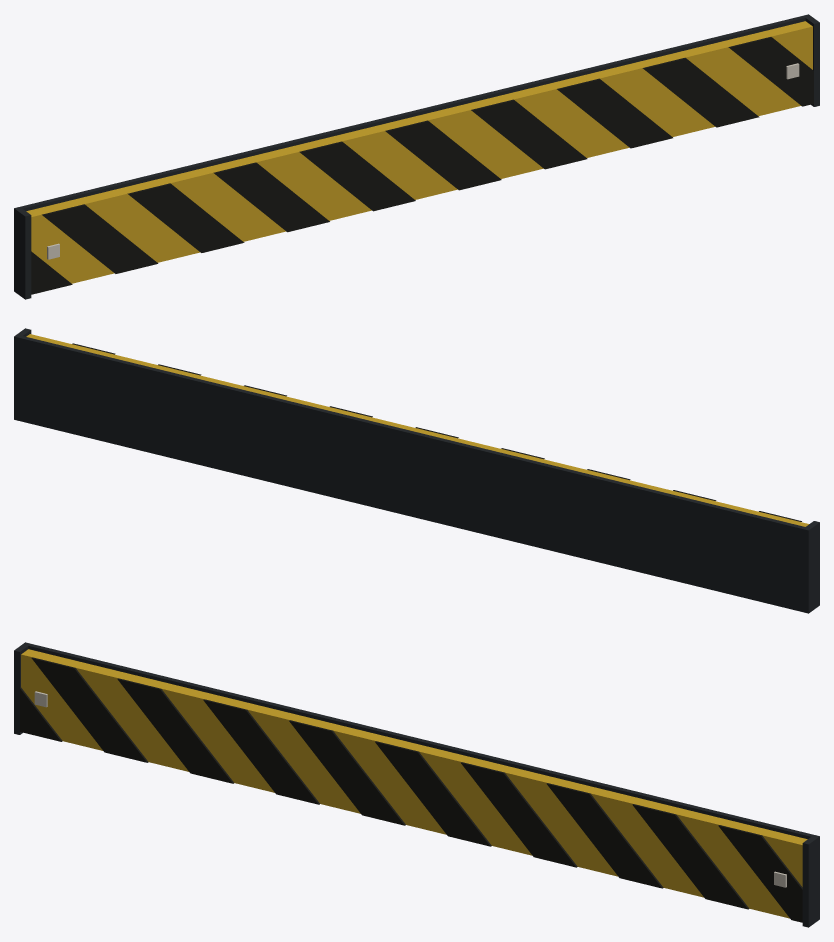
File: trim_hazard.glb
3 renders of one model, top to bottom at view 1: azimuth 30°, elevation 25°; view 2: azimuth 150°, elevation 25°; view 3: azimuth 330°, elevation 25°, orthographic.
Parts seen in each view (by area): view 1: trim_hazard; view 2: trim_hazard; view 3: trim_hazard.
Part boxes in pixels (x1=…): trim_hazard: x1=14, y1=14, x2=819, y2=299; trim_hazard: x1=14, y1=328, x2=819, y2=613; trim_hazard: x1=14, y1=642, x2=819, y2=927.
Size of the model in its own units: 2 by 0.2 by 0.054.
